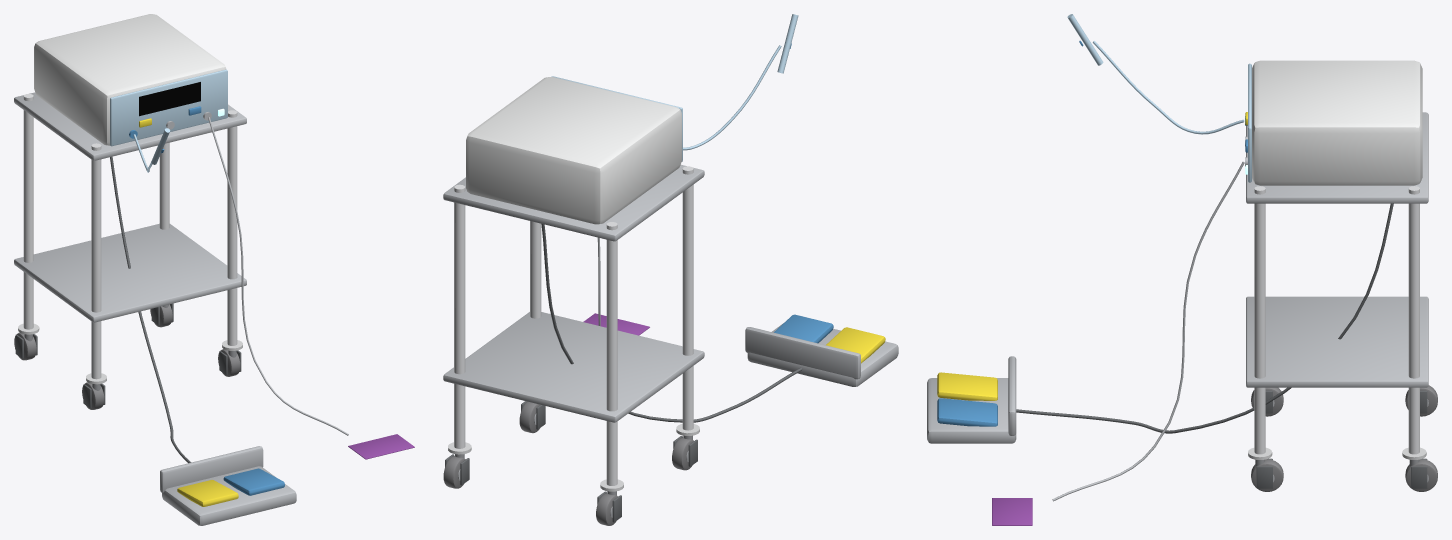
File: DiathermyUnit.fbx
The picture shows the model from 3 angles, left to right: view 1: azimuth 30°, elevation 25°; view 2: azimuth 150°, elevation 25°; view 3: azimuth 270°, elevation 25°; orthographic projection. The views are drawn at different scales.
Visible parts, largest first — view 1: DiathermyUnit_Mesh, DiathermyUnit_Screen_diathermy; view 2: DiathermyUnit_Mesh; view 3: DiathermyUnit_Mesh.
Part boxes in pixels (<box>): DiathermyUnit_Mesh: <box>14,14,414,525</box>; DiathermyUnit_Screen_diathermy: <box>139,82,200,116</box>; DiathermyUnit_Mesh: <box>443,14,898,525</box>; DiathermyUnit_Mesh: <box>927,14,1437,525</box>.
Size of the model in its own units: 0.795 by 1.07 by 1.26.
